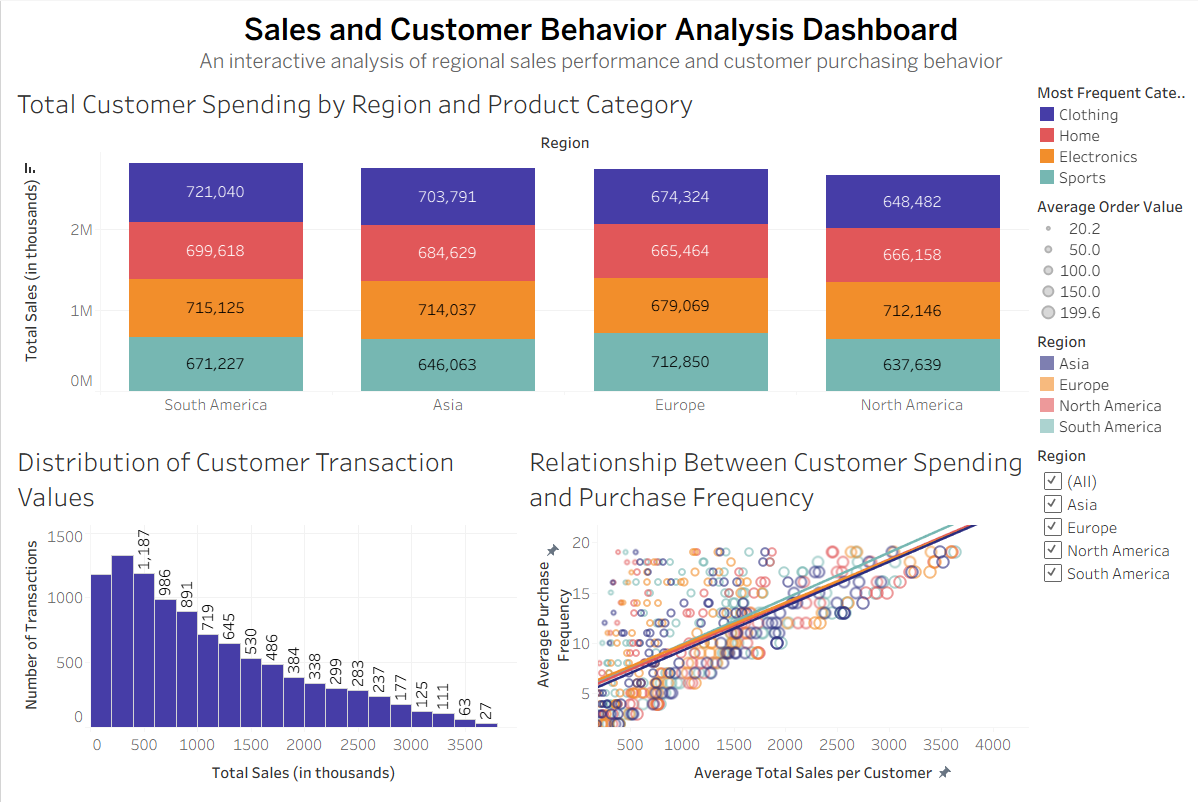

This screenshot's page, from the dashboard's own definition file:
{"tool":"tableau","page":{"name":"Sales and Customer Insights Dashboard","canvas":[1000,1000],"units":"permille","ordinal":0},"visuals":[{"type":"title","box":[6.7,10,986.7,75]},{"type":"worksheet","title":"Total Customer Spending by Region and Product Category","mark":"Bar","rows":["Total_Estimated_Spend"],"cols":["Region"],"box":[6.7,85,853.3,452.5]},{"type":"legend","title":"Total Customer Spending by Region and Product Category","param":"[federated.0xd8mhi09ah5x610gres60ia42cw].[none:Most_Frequent_Category:nk]","box":[860,85,133.3,133.8]},{"type":"legend","title":"Relationship Between Customer Spending and Purchase Frequency","param":"[federated.0xd8mhi09ah5x610gres60ia42cw].[sum:Average_Order_Value:qk]","box":[860,218.8,133.3,158.8]},{"type":"legend","title":"Relationship Between Customer Spending and Purchase Frequency","param":"[federated.0xd8mhi09ah5x610gres60ia42cw].[none:Region:nk]","box":[860,377.5,133.3,133.8]},{"type":"filter","title":"Total Customer Spending by Region and Product Category","param":"[federated.0xd8mhi09ah5x610gres60ia42cw].[none:Region:nk]","box":[860,511.2,133.3,166.2]},{"type":"worksheet","title":"Distribution of Customer Transaction Values","mark":"Automatic","rows":["Total_Estimated_Spend"],"cols":["Total Estimated Spend (bin)"],"box":[6.7,537.5,426.7,452.5]},{"type":"worksheet","title":"Relationship Between Customer Spending and Purchase Frequency","mark":"Automatic","rows":["Purchase_Frequency"],"cols":["Total_Estimated_Spend"],"box":[433.3,537.5,426.7,452.5]}]}

Visuals, with their boxes on the dashboard's canvas, which has no fixed pixel size, in thousandths of its width and height (x1, y1, x2, y2). These are canvas units, not pixel positions in the 1198x802 screenshot, which may show the page scaled, cropped or inside an application window:
title: [7, 10, 993, 85]
"Total Customer Spending by Region and Product Category" worksheet (Bar marks): [7, 85, 860, 538]
"Total Customer Spending by Region and Product Category" legend: [860, 85, 993, 219]
"Relationship Between Customer Spending and Purchase Frequency" legend: [860, 219, 993, 378]
"Relationship Between Customer Spending and Purchase Frequency" legend: [860, 378, 993, 511]
"Total Customer Spending by Region and Product Category" filter: [860, 511, 993, 677]
"Distribution of Customer Transaction Values" worksheet: [7, 538, 433, 990]
"Relationship Between Customer Spending and Purchase Frequency" worksheet: [433, 538, 860, 990]
